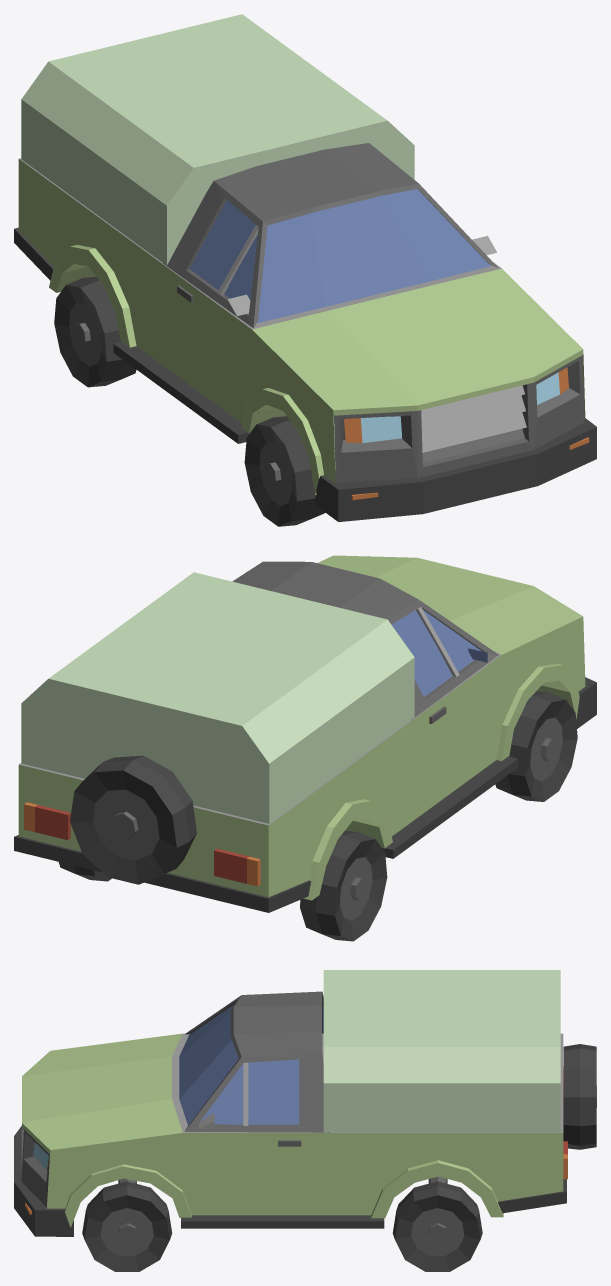
Rendered from transport_jeep_006.fbx.
3 views of the same model, one above another, from view 1: azimuth 30°, elevation 25°; view 2: azimuth 150°, elevation 25°; view 3: azimuth 270°, elevation 25° (orthographic). The views are drawn at different scales.
Visible parts, largest first — view 1: transport_jeep_006; view 2: transport_jeep_006; view 3: transport_jeep_006.
Part boxes in pixels (x1=…): transport_jeep_006: x1=14, y1=14, x2=596, y2=526; transport_jeep_006: x1=14, y1=555, x2=596, y2=941; transport_jeep_006: x1=14, y1=970, x2=596, y2=1271.
Bounding box in the file's own units: 176 × 154 × 387.
